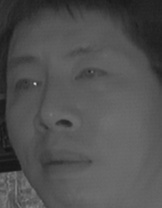eye: (71, 62, 109, 88), (9, 72, 42, 96)
mouth: (35, 144, 93, 182)
